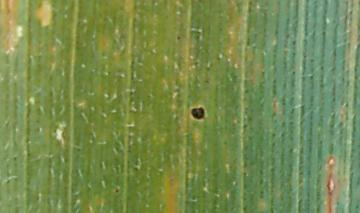tarspot: (190, 107, 207, 119), (176, 35, 181, 42), (115, 188, 120, 194)
